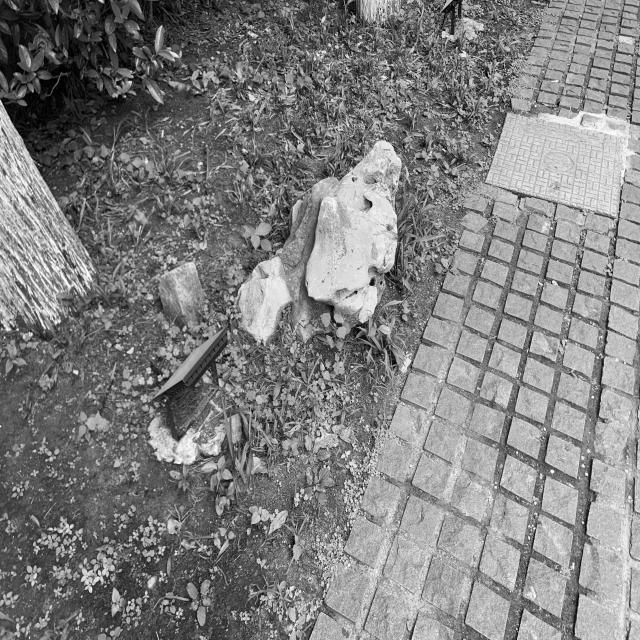Stone: (241, 142, 401, 340)
